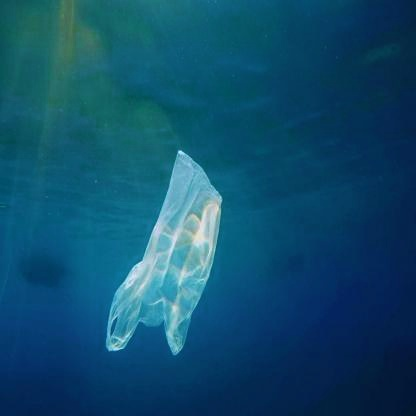pbag: (100, 143, 223, 359)
